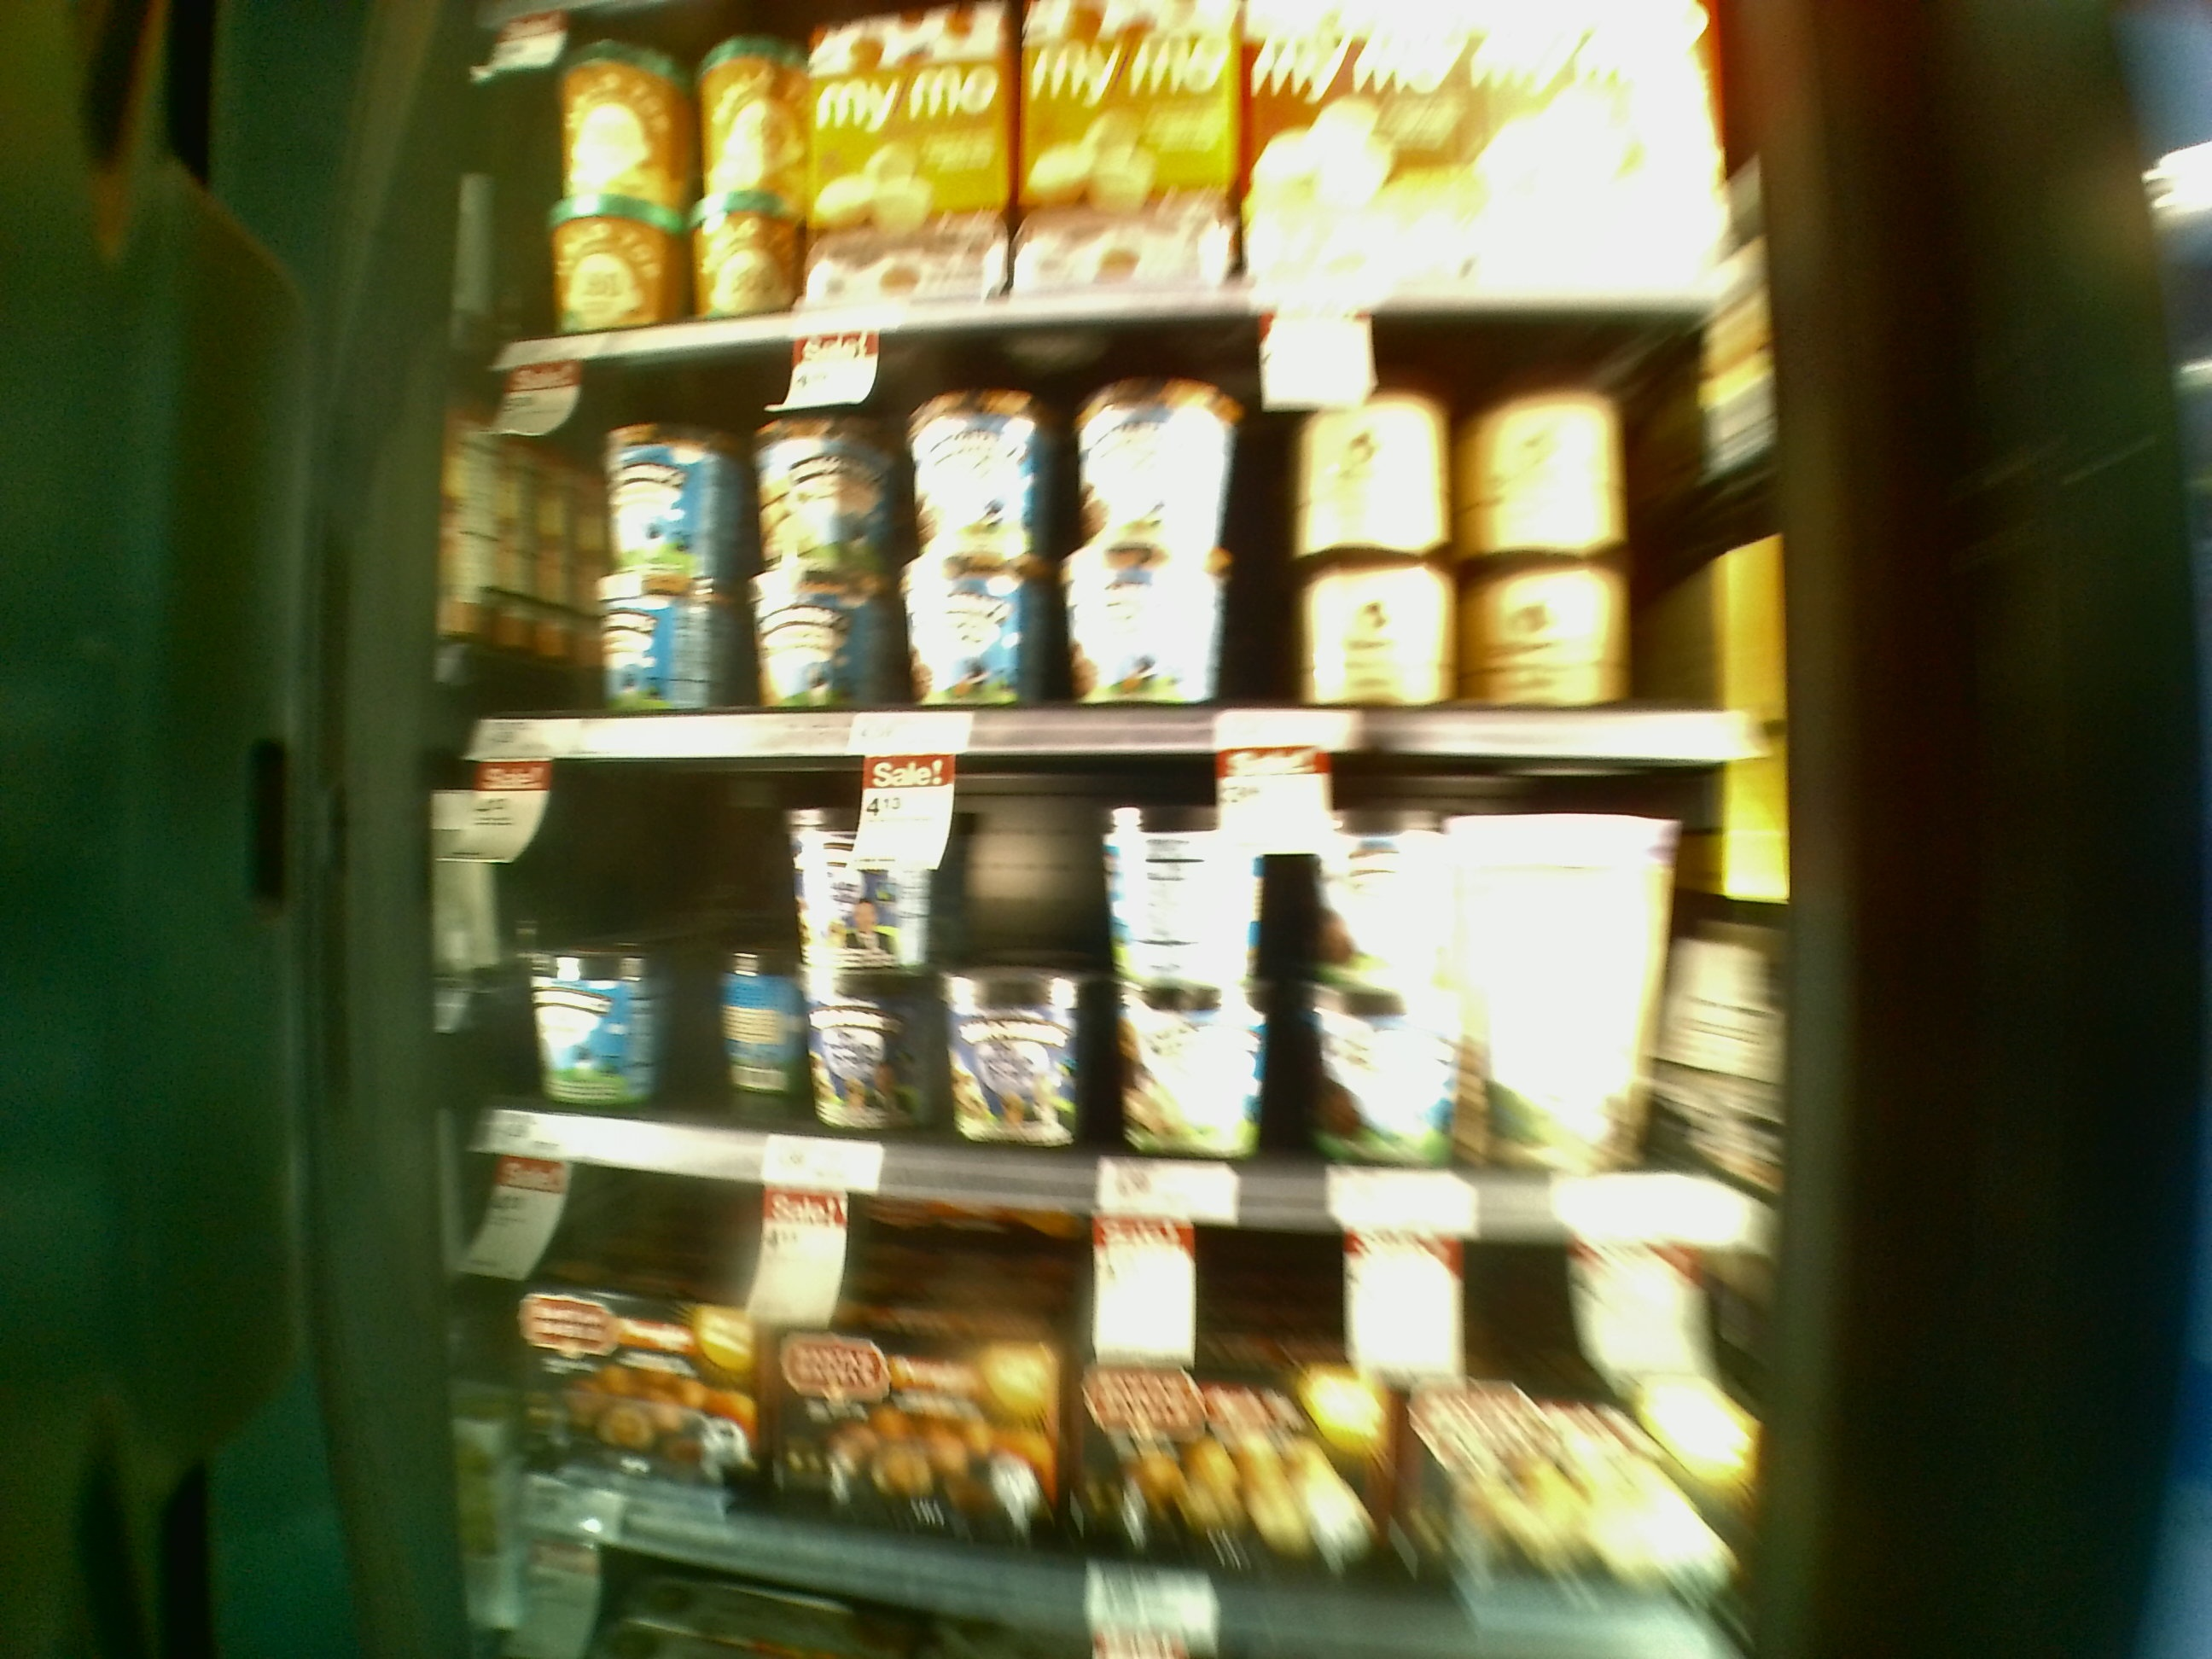shelf: (420, 748, 1778, 1244), (446, 333, 1763, 769)
